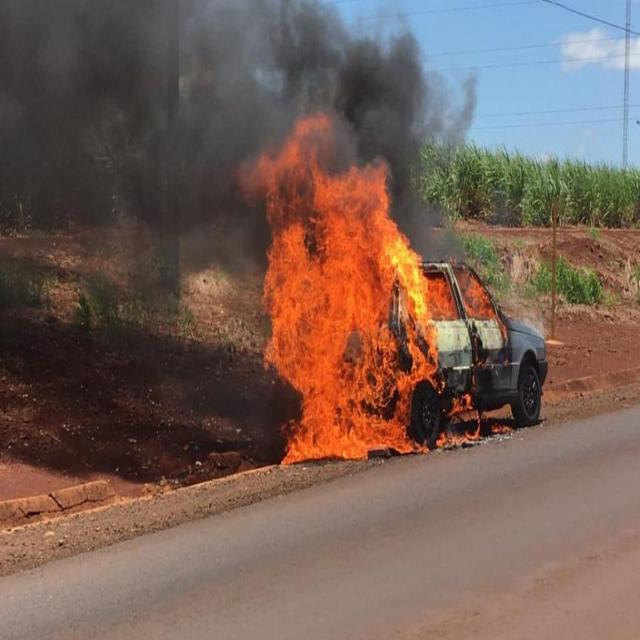fire: (262, 113, 501, 464)
